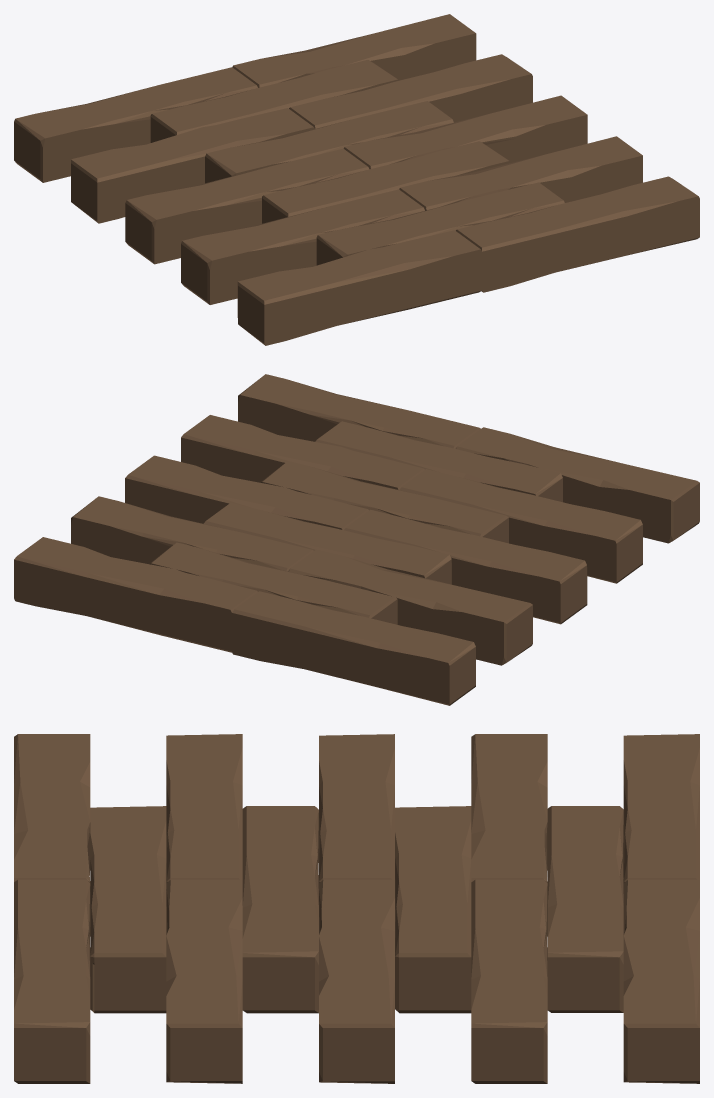
Rendered from PK_Floor_Upper_B.fbx.
The picture shows the model from 3 angles, top to bottom: view 1: azimuth 30°, elevation 25°; view 2: azimuth 150°, elevation 25°; view 3: azimuth 270°, elevation 25°; orthographic projection. The views are drawn at different scales.
Visible parts, largest first — view 1: PK_Floor_Upper_B; view 2: PK_Floor_Upper_B; view 3: PK_Floor_Upper_B.
Part boxes in pixels (x1,y1,x2,y2): PK_Floor_Upper_B: (14,14,699,345); PK_Floor_Upper_B: (14,374,699,705); PK_Floor_Upper_B: (14,734,699,1083).
Bounding box in the file's own units: 200 × 19.32 × 199.
